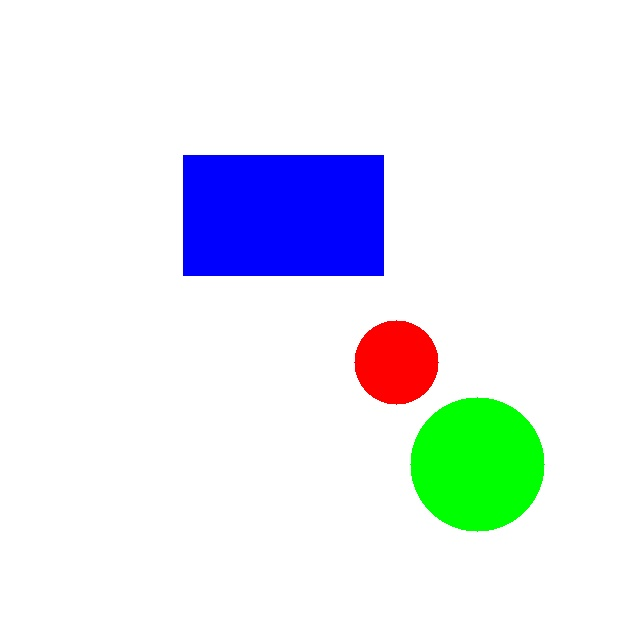cartao: (183, 155, 383, 275)
rosca_externa: (410, 397, 544, 531)
rosca_interna: (354, 320, 438, 404)
